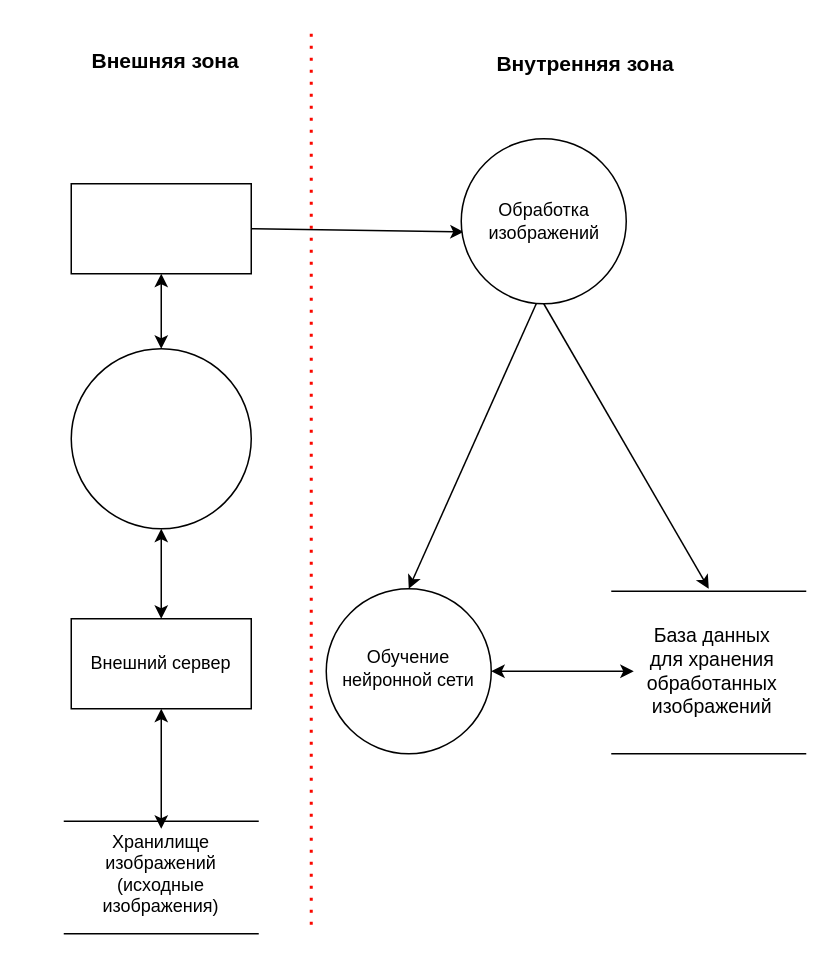
This 834x962 diagram has some shape labels left out. The centre of each missing label's shape, as x and y in pixels:
"Запросы к внешнему серверу" belongs at point 160,438.
"Пользователь" belongs at point 160,228.
